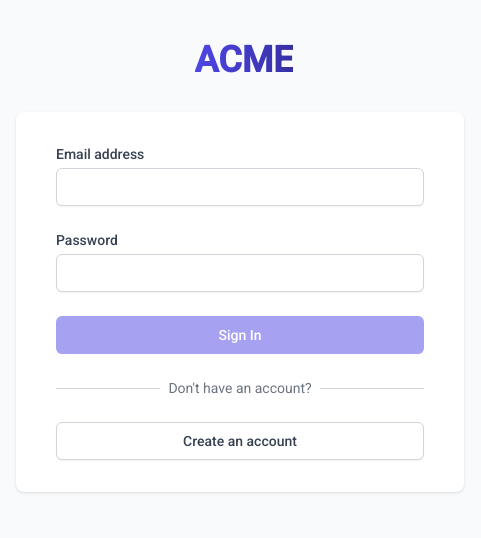
Scenario: Sign In › Form Validation › should validate empty form submission
Focus the field named "email". click: (240, 187)
box: [56,168,424,206]
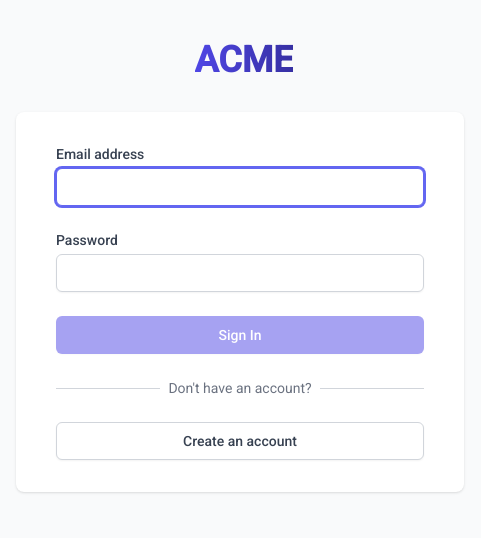
Leave the field named "email", box [56,168,424,206]
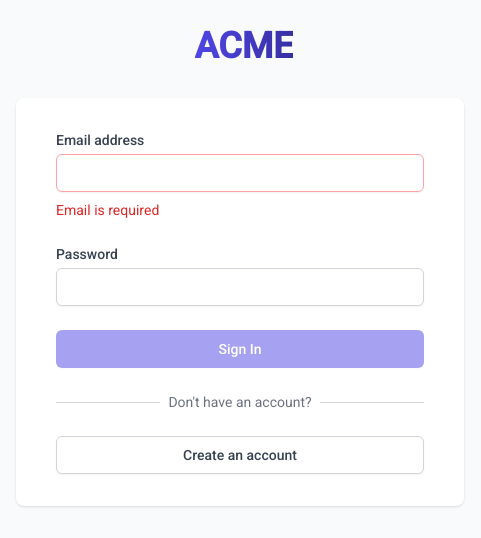
Focus the password field named "password". click: (240, 287)
box: [56,268,424,306]
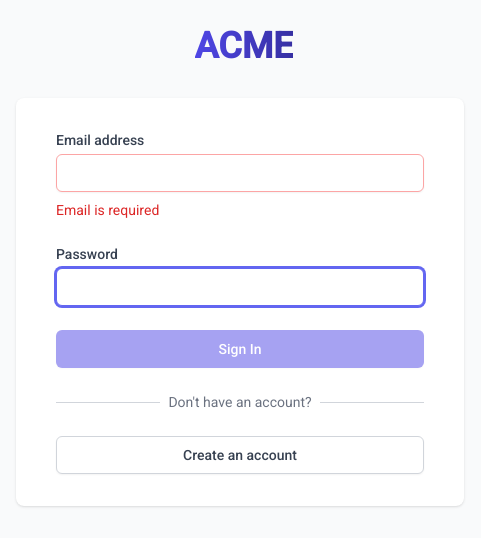
Leave the password field named "password", box [56,268,424,306]
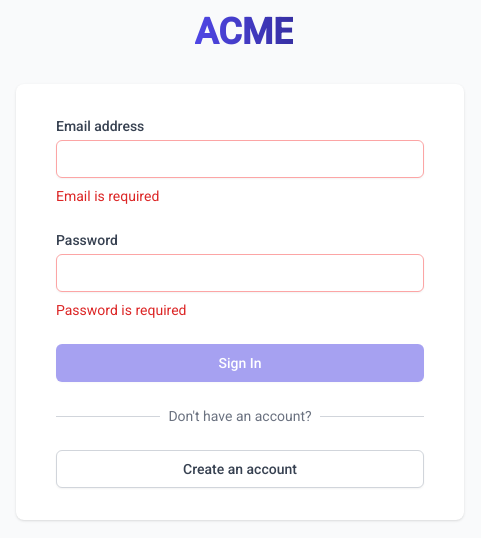
Expected: the text "Email is required" is shown, [56,188,159,204]
Expected: the text "Password is required" is shown, [56,302,186,318]
